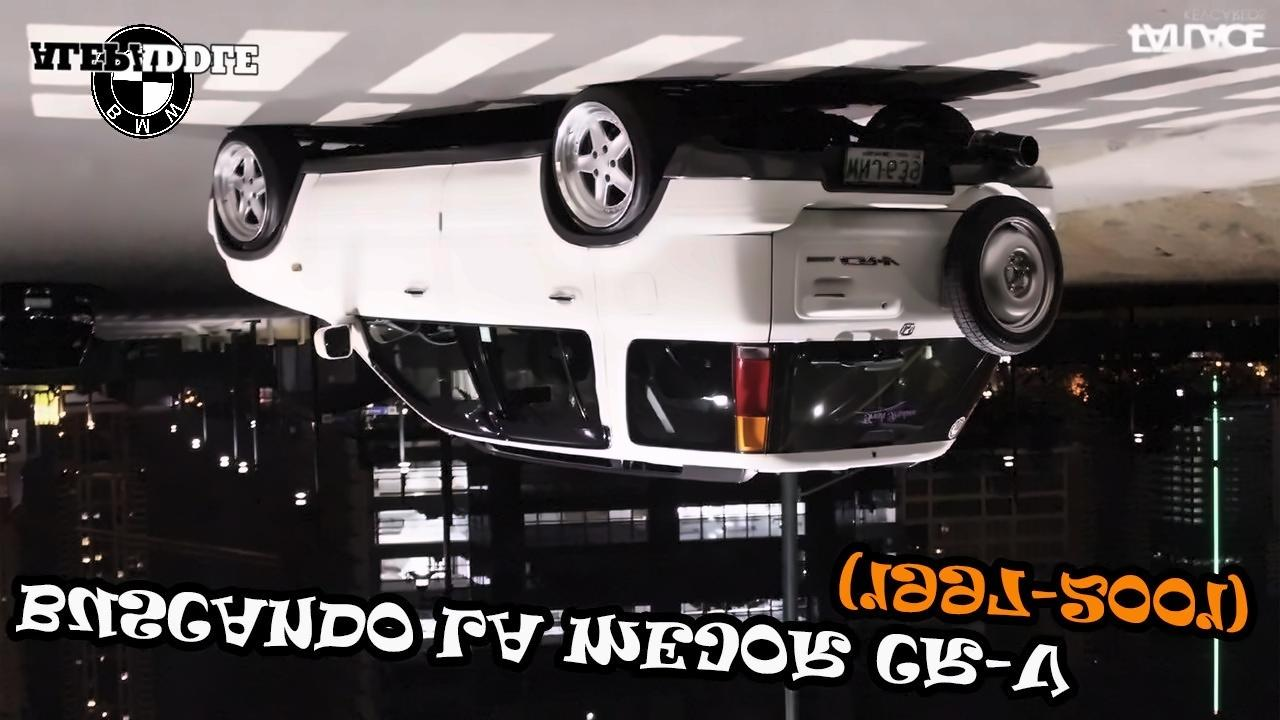Car boot: (759, 195, 1008, 459)
Driver-s door - -F-R-: (309, 149, 505, 453)
Fender - -F-R-: (210, 161, 328, 306)
Fender - -R-R-: (533, 141, 712, 370)
Passenger-s door - -R-R-: (423, 132, 621, 463)
Rear bumper: (650, 130, 1060, 207)
Rear light - -R-: (732, 339, 784, 454)
Side bumper - -R-: (294, 119, 583, 196)
Side mirror - -R-: (308, 326, 359, 362)
